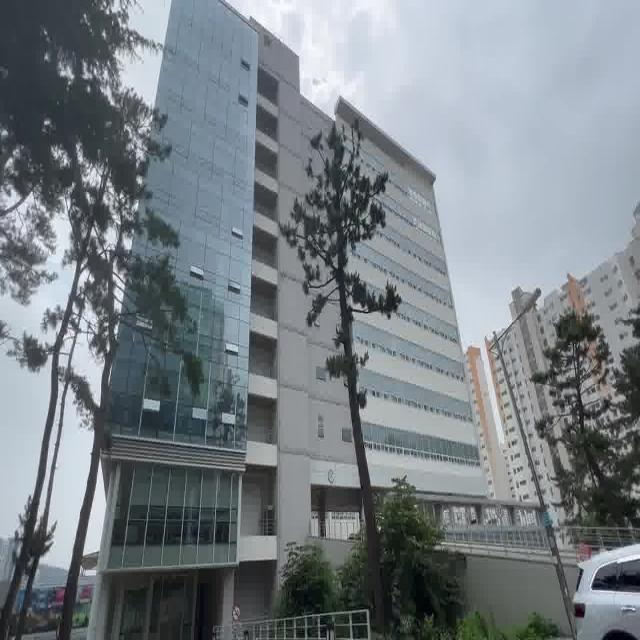building: (177, 0, 304, 441)
